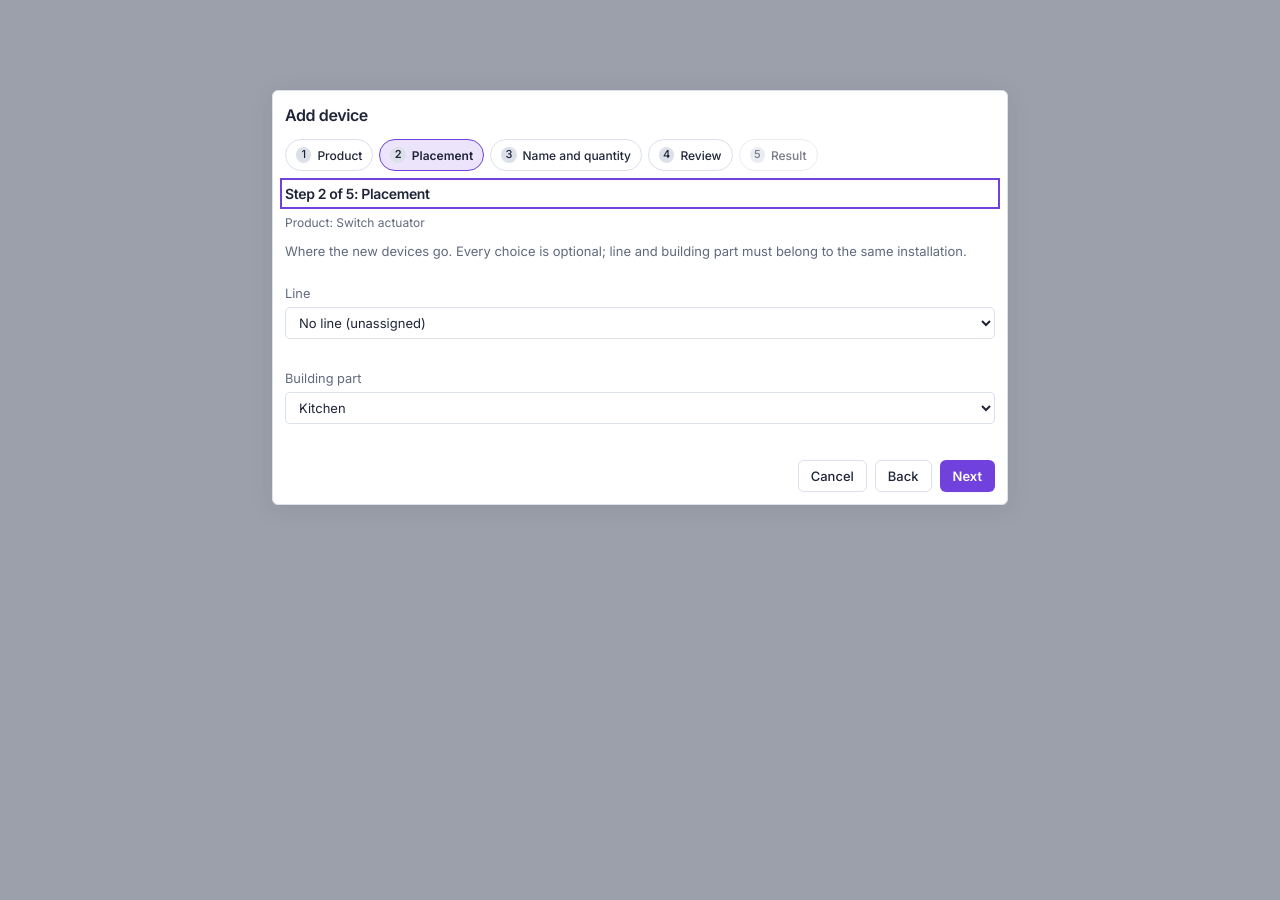
Test: DeviceWizard (ADR-0093) › disables address allocation without a line and sends no line
Expected: the dropdown labelled "Line" shows "No line (unassigned)", top-left (285, 307), bottom-right (995, 339)
Expected: the dropdown labelled "Building part" shows "Kitchen", top-left (285, 392), bottom-right (995, 424)
Click the button "Next".
click(967, 476)  # box top-left (940, 460), bottom-right (995, 492)
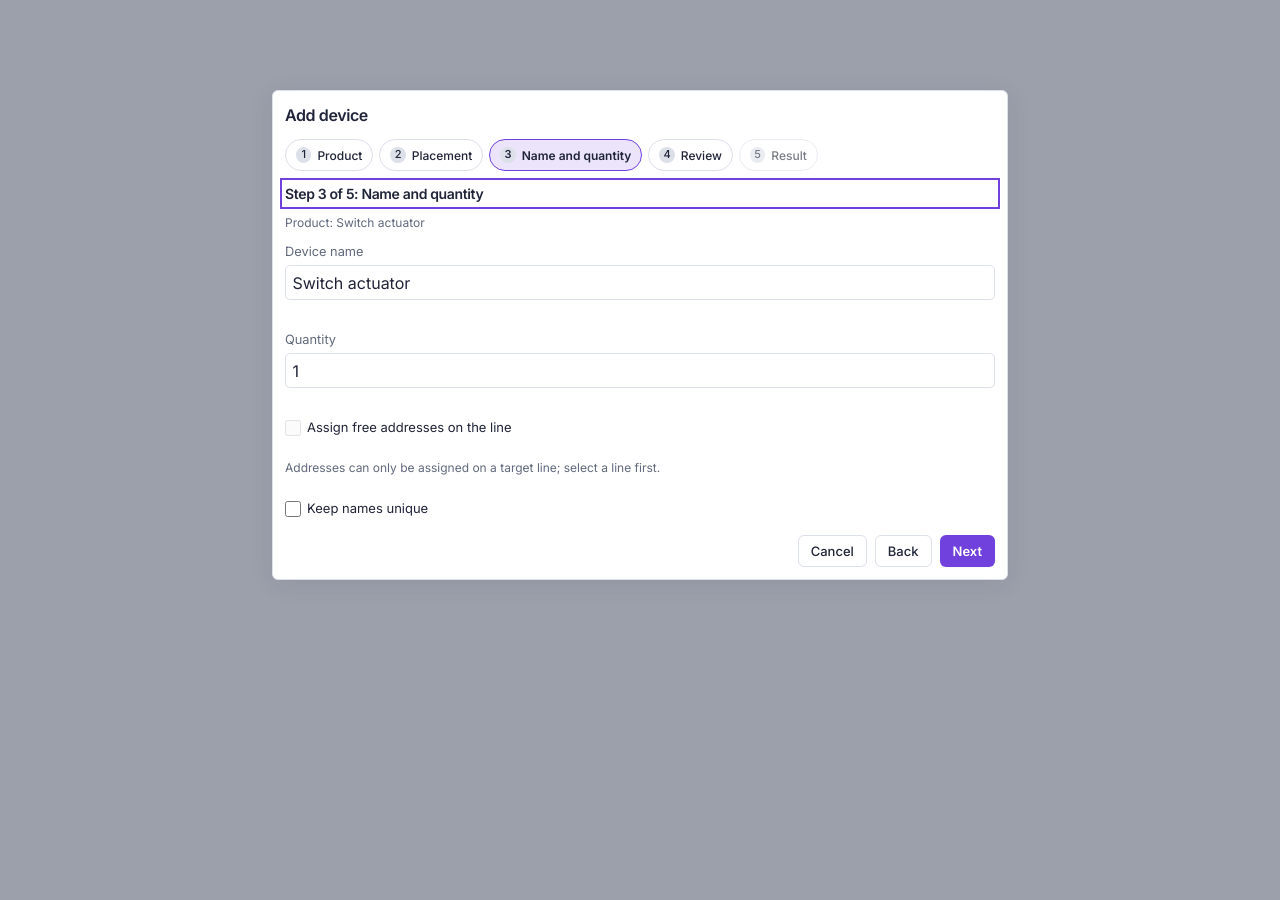
Expected: the checkbox labelled "Assign free addresses on the line" is disabled, top-left (285, 420), bottom-right (301, 436)
Click the button "Next".
click(967, 551)  # box top-left (940, 535), bottom-right (995, 567)
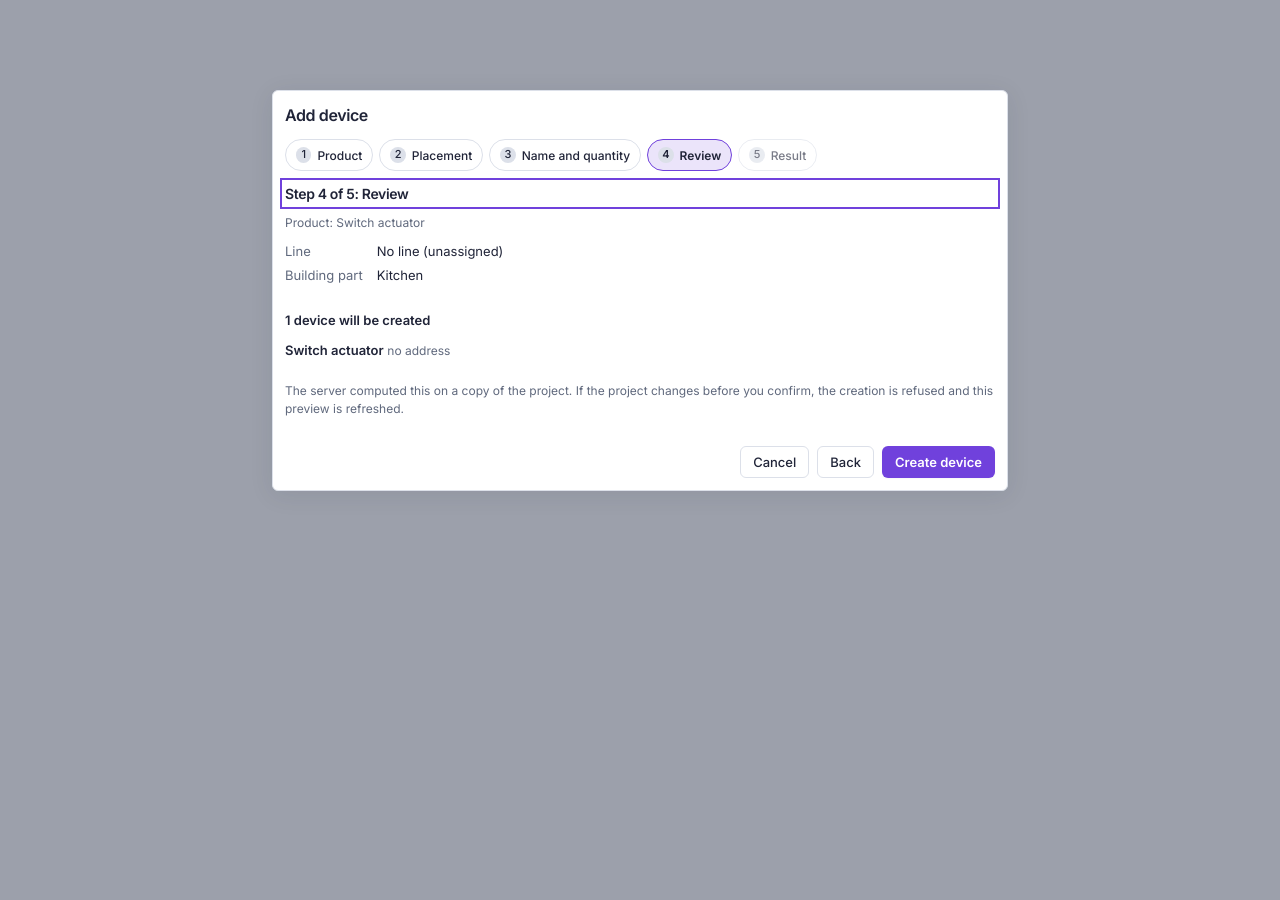
Expected: the text "no address" is shown, top-left (387, 342), bottom-right (450, 358)
